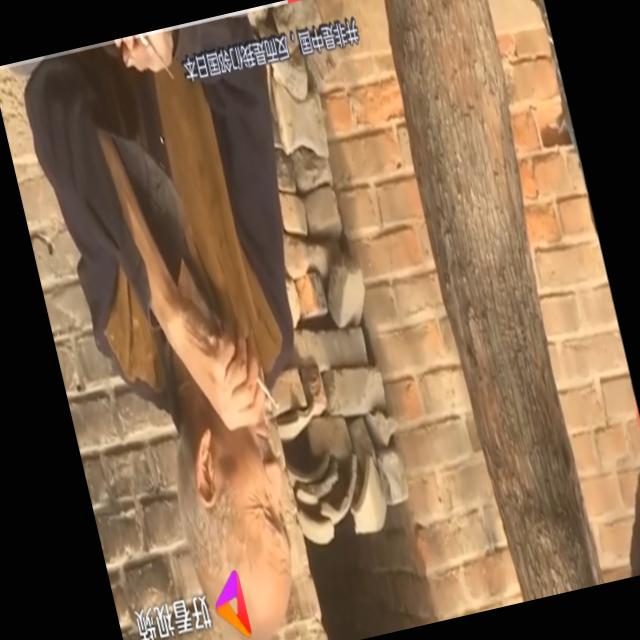smoke: (251, 368, 280, 416)
